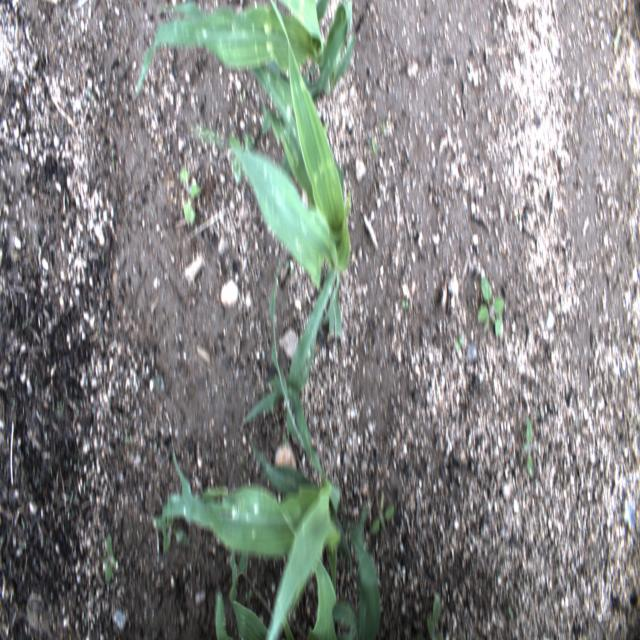crop: (162, 261, 352, 639), (184, 0, 352, 423), (136, 0, 354, 95), (306, 513, 379, 638), (228, 550, 274, 640)
weed: (475, 269, 507, 340), (152, 512, 185, 552), (179, 169, 200, 226), (370, 490, 393, 535), (213, 587, 230, 637), (104, 533, 118, 589), (426, 589, 442, 637), (525, 412, 534, 476), (368, 132, 384, 157), (22, 309, 36, 331), (374, 116, 390, 134), (508, 594, 518, 621), (453, 332, 465, 352), (401, 289, 409, 312), (68, 484, 76, 506)
